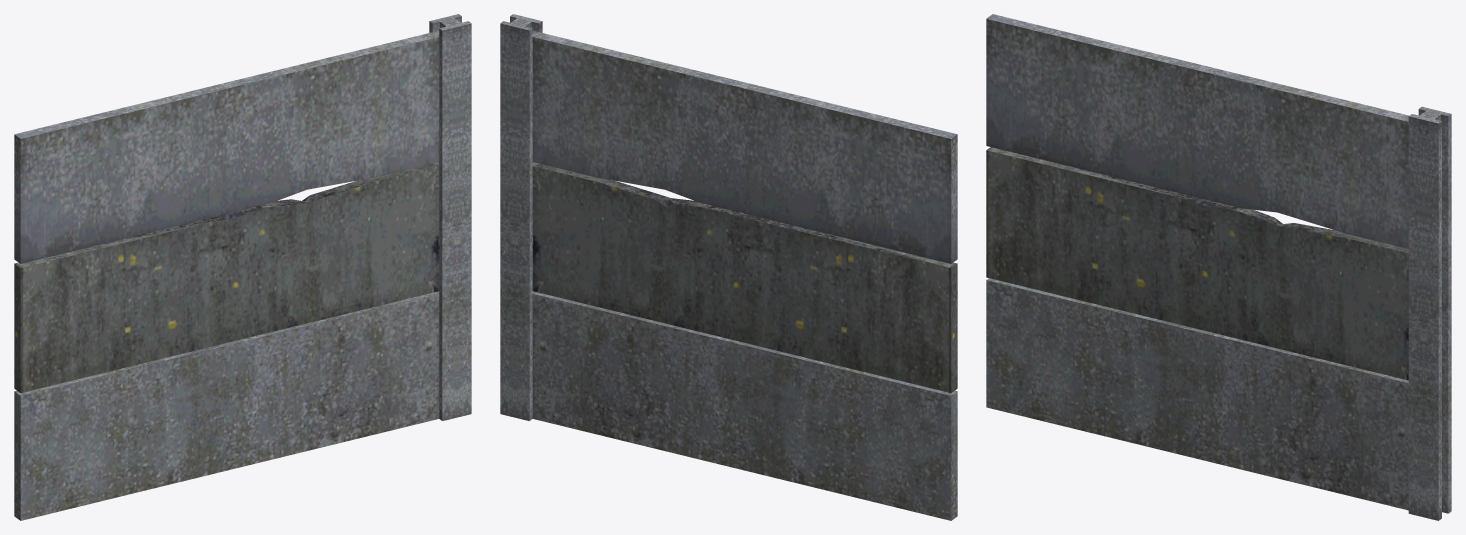
File: ConcreteSlabFence_Panel_Open01_Model.fbx
3 views of the same model, side by side, from view 1: azimuth 30°, elevation 25°; view 2: azimuth 150°, elevation 25°; view 3: azimuth 330°, elevation 25° (orthographic).
Parts seen in each view (by area): view 1: Body; view 2: Body; view 3: Body.
Boxes of the visible parts, box(x1,y1,x2,y2) form: Body: box(14, 14, 471, 520); Body: box(500, 14, 957, 520); Body: box(986, 14, 1451, 520).
Size of the model in its own units: 300 by 250 by 15.
